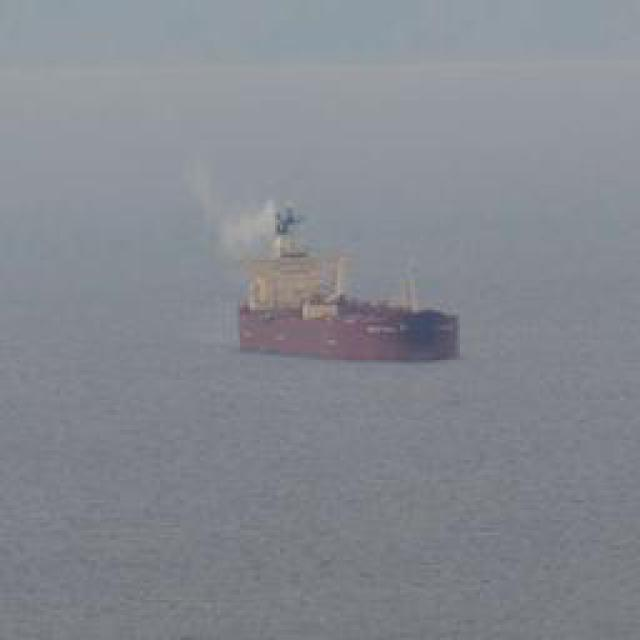Ship: (217, 226, 459, 364)
